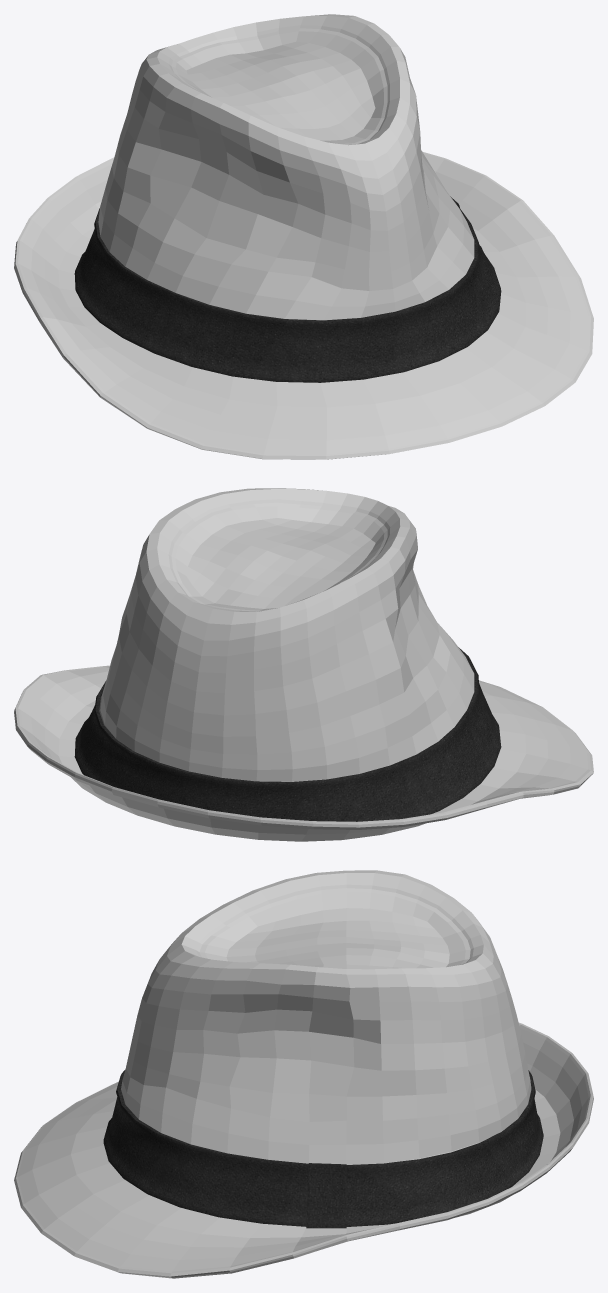
The picture shows the model from 3 angles, top to bottom: view 1: azimuth 30°, elevation 25°; view 2: azimuth 150°, elevation 25°; view 3: azimuth 270°, elevation 25°; orthographic projection.
Visible parts, largest first — view 1: Hat, Brimmed hat; view 2: Hat, Brimmed hat; view 3: Hat, Brimmed hat.
Part boxes in pixels (x1,y1,x2,y2): Hat: [14, 14, 593, 459]; Brimmed hat: [74, 196, 501, 382]; Hat: [14, 488, 593, 841]; Brimmed hat: [74, 647, 501, 821]; Hat: [14, 870, 593, 1278]; Brimmed hat: [103, 1070, 543, 1228].
Bounding box in the file's own units: 31.37 × 16.07 × 32.29.
